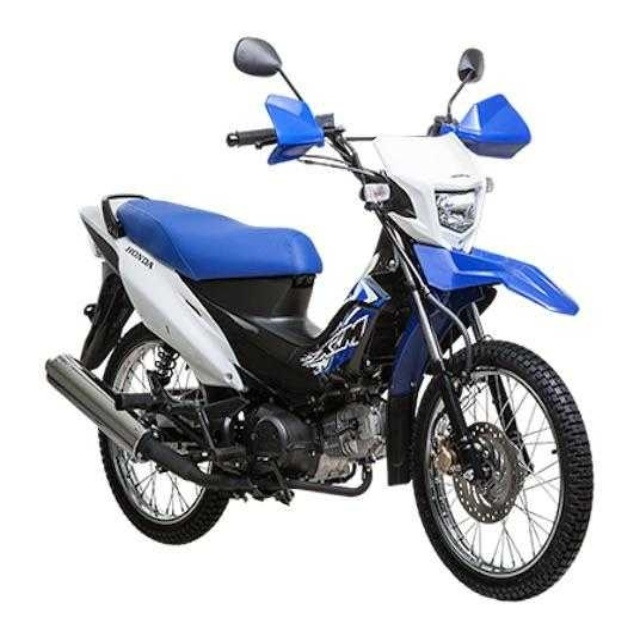Motorcycle: (45, 36, 593, 602)
